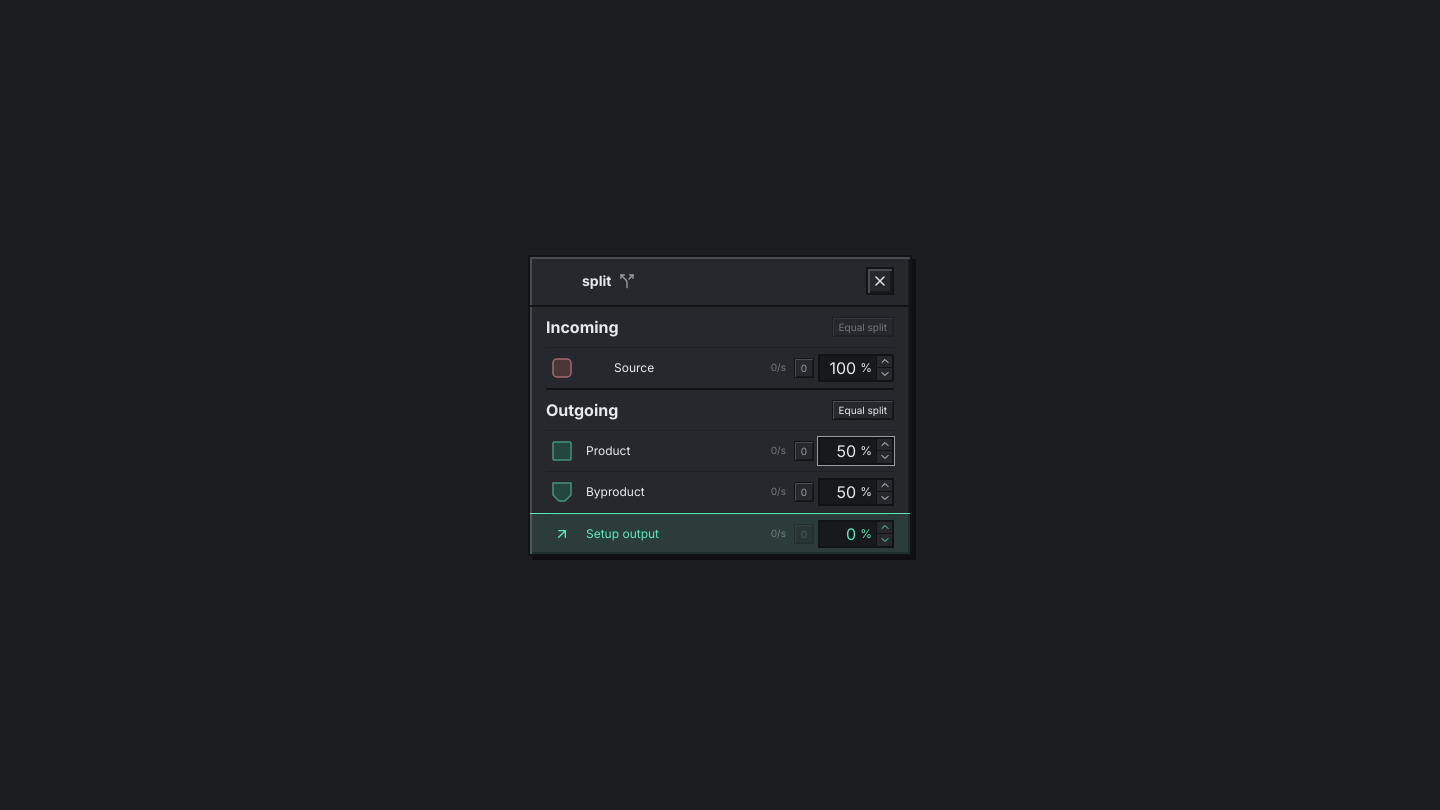
steps the current draft with the buttons and arrow keys
This screenshot has width=1440, height=810.
Replace the text in the number field named "Product output percentage" with "60" at (838, 450), box top-left (820, 438), bottom-right (856, 462)
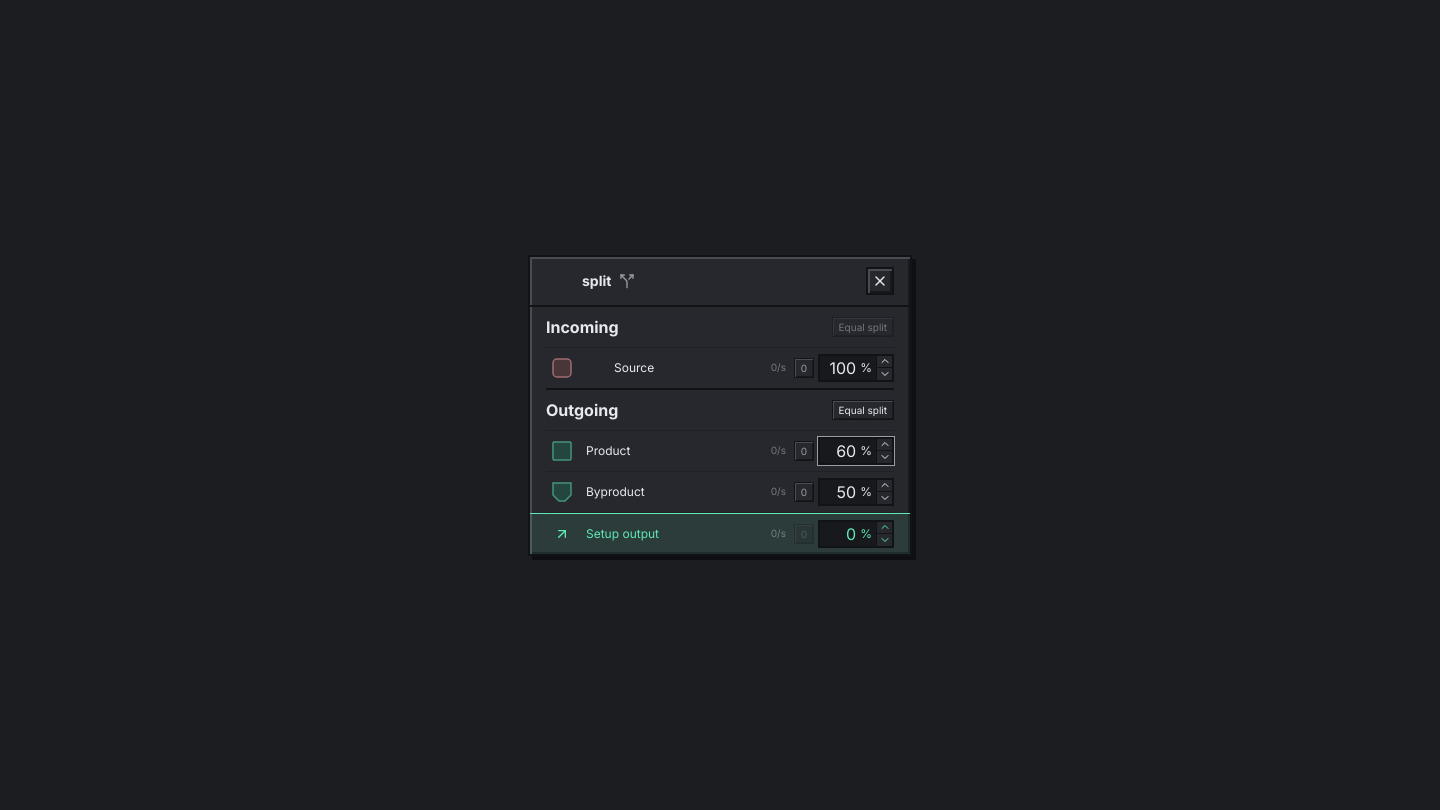
Click the button named "Increase Product output percentage" at (884, 444), box top-left (877, 438), bottom-right (892, 450)
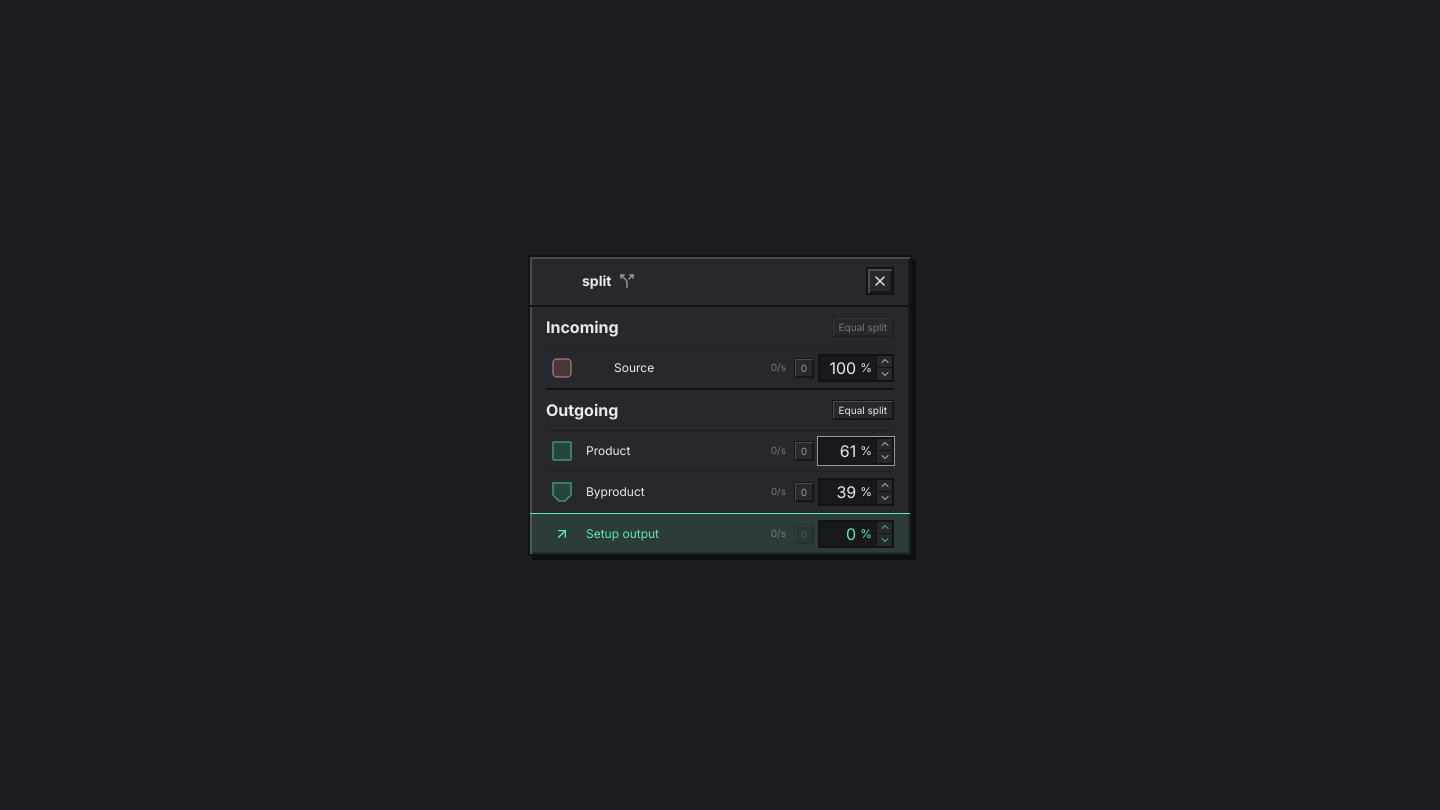
Check: the number field named "Product output percentage" holds "61"
Press ArrowDown in the number field named "Product output percentage", box top-left (820, 438), bottom-right (856, 462)
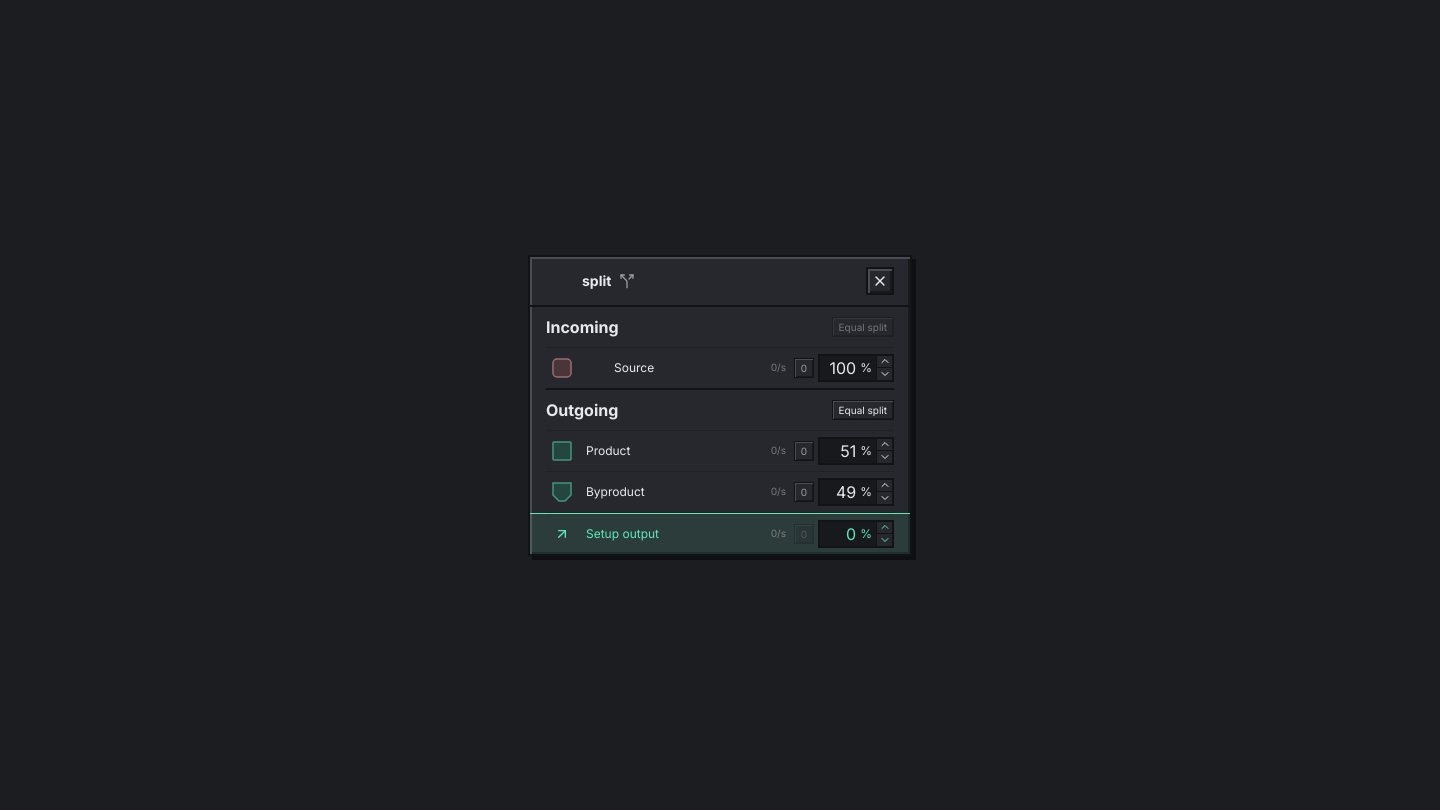
Check: the number field named "Product output percentage" holds "51", box top-left (820, 438), bottom-right (856, 462)
